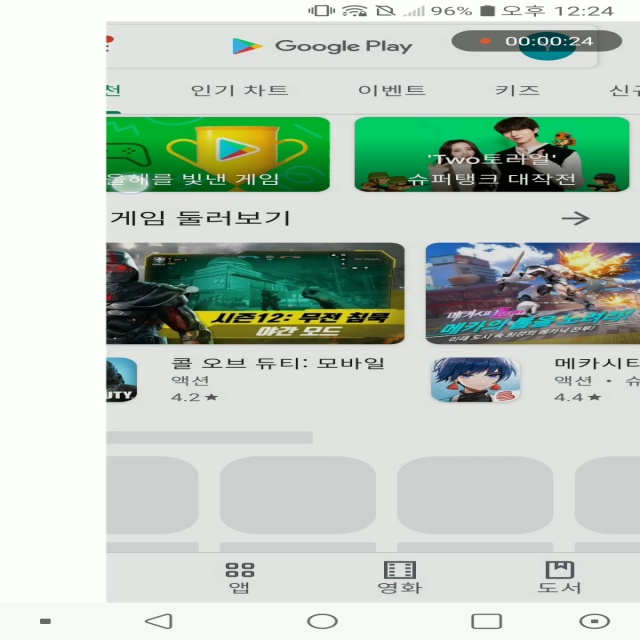Cursor: (111, 174, 155, 196)
